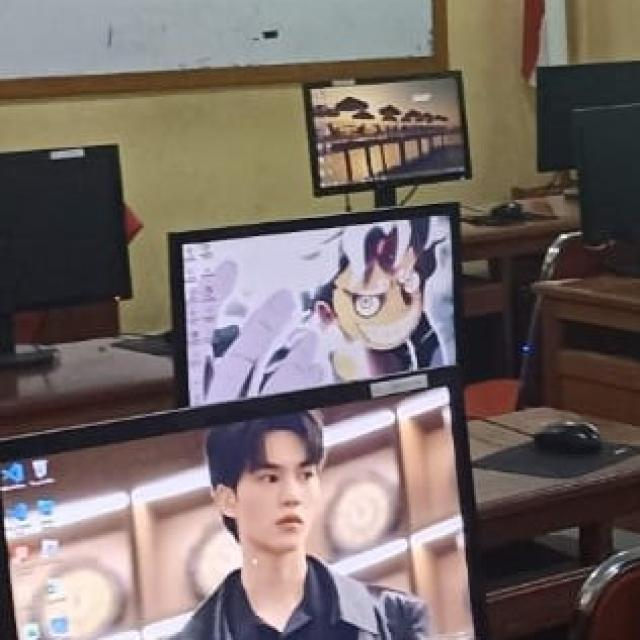offscreen: (0, 145, 130, 313), (538, 61, 640, 171), (572, 102, 640, 242)
onscreen: (171, 207, 459, 406), (1, 432, 241, 639), (310, 389, 473, 640), (307, 74, 470, 196)
